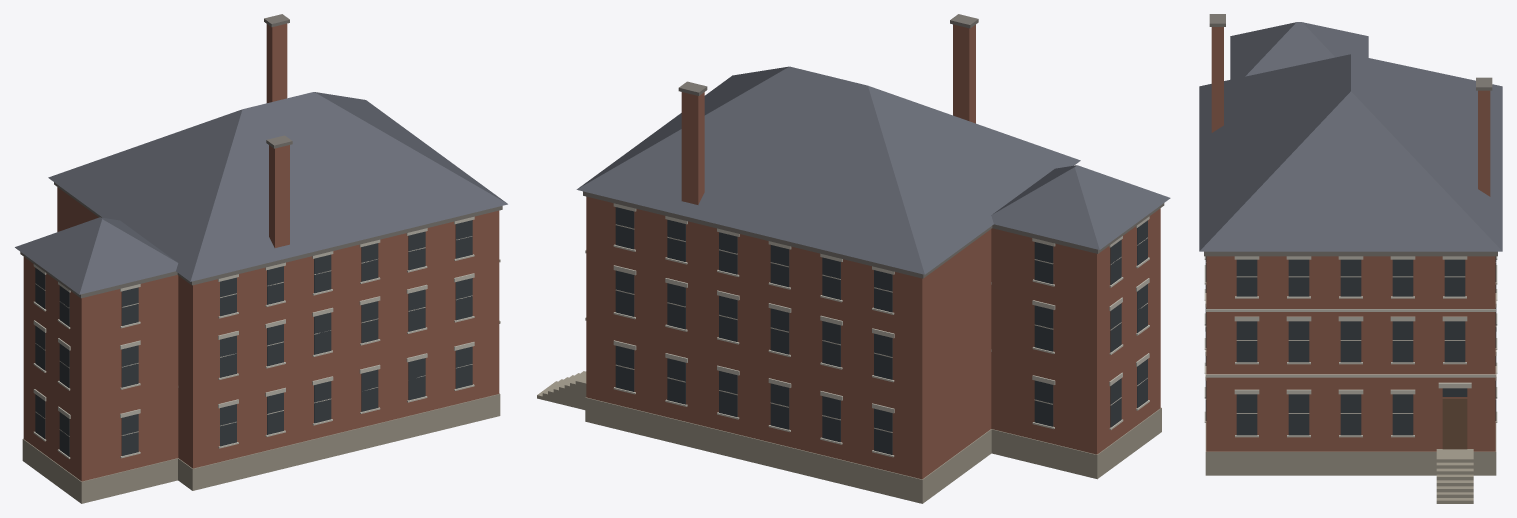
File: kellogg_house_1923_prairie__draft_1904.glb
3 views of the same model, side by side, from view 1: azimuth 30°, elevation 25°; view 2: azimuth 150°, elevation 25°; view 3: azimuth 270°, elevation 25° (orthographic). The views are drawn at different scales.
Parts seen in each view (by area): view 1: kellogg_house_1923_prairie__draft_1904; view 2: kellogg_house_1923_prairie__draft_1904; view 3: kellogg_house_1923_prairie__draft_1904.
Boxes of the visible parts, <box> form: kellogg_house_1923_prairie__draft_1904: <box>15,14,507,503</box>; kellogg_house_1923_prairie__draft_1904: <box>537,14,1170,503</box>; kellogg_house_1923_prairie__draft_1904: <box>1199,14,1502,503</box>.
Size of the model in its own units: 27.65 by 18.43 by 14.7.
